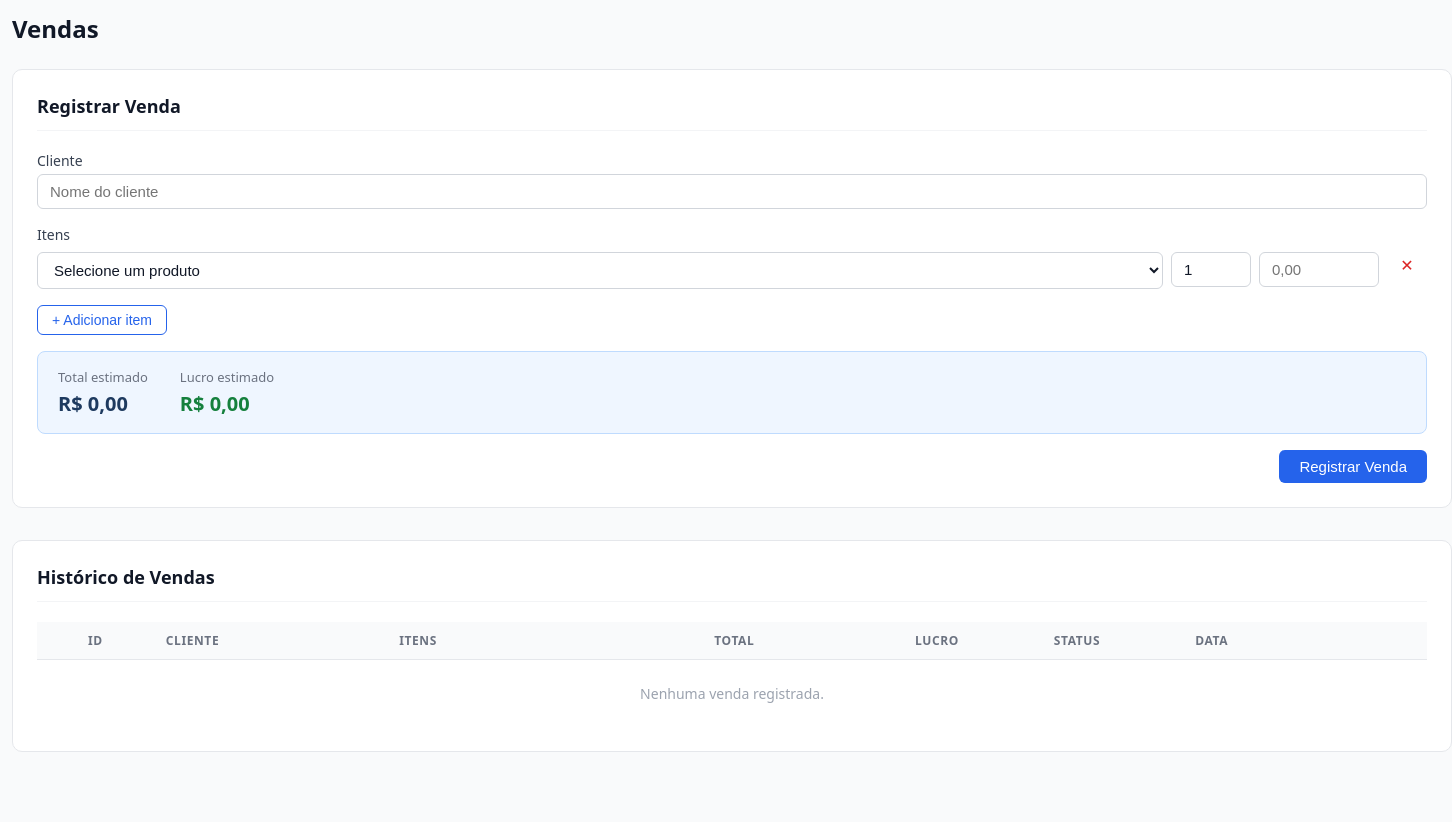
VendasView › exibe mensagem de sucesso após registrar venda
This screenshot has width=1452, height=822.
Type "Cliente Y" into the field with test id "input-cliente".
click(732, 192); type("Cliente Y")  # box [37,174,1427,209]
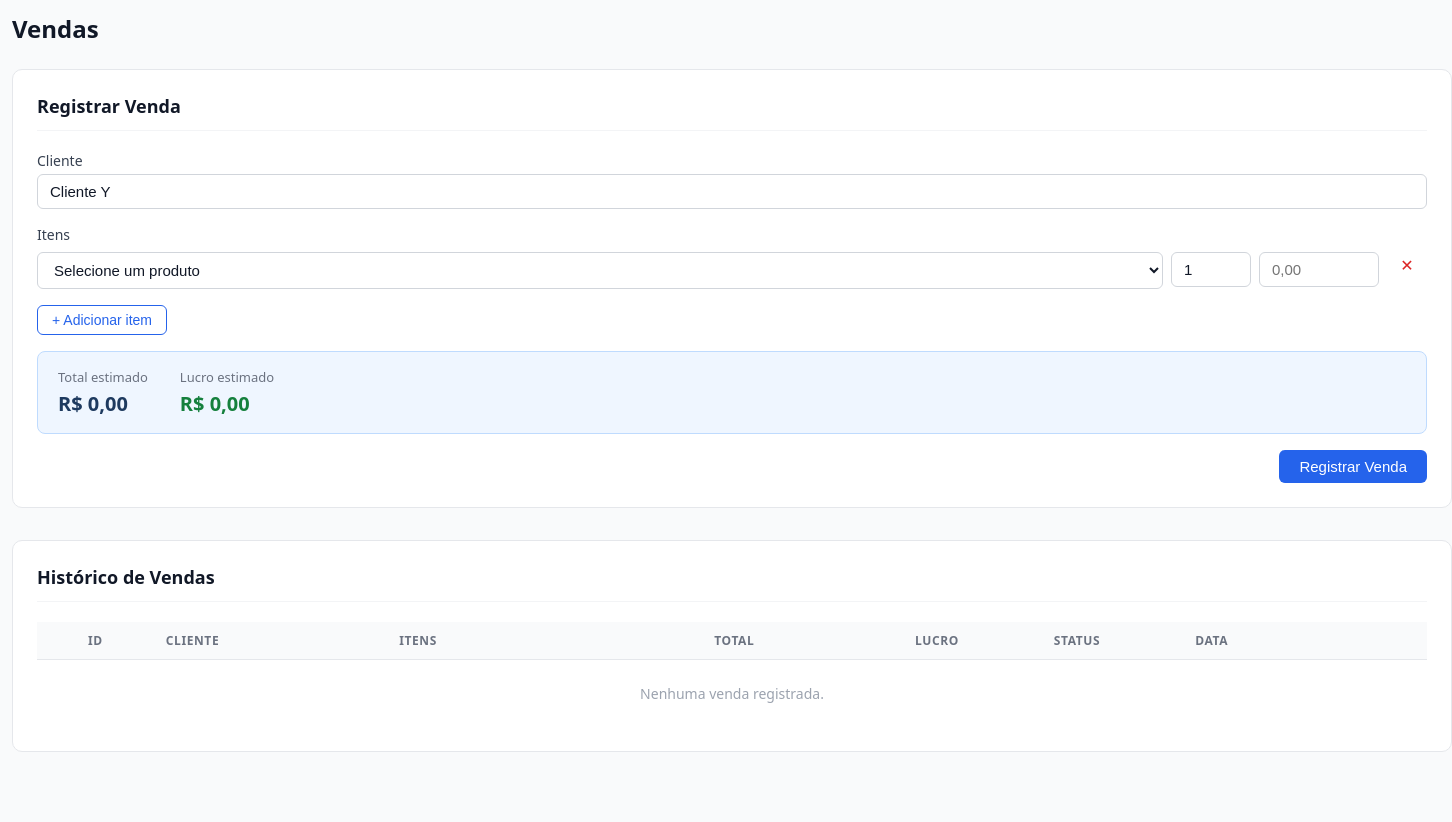
Select "Produto A (estoque: 50)" in the dropdown with test id "select-produto" at (600, 270), box [37,252,1163,289]
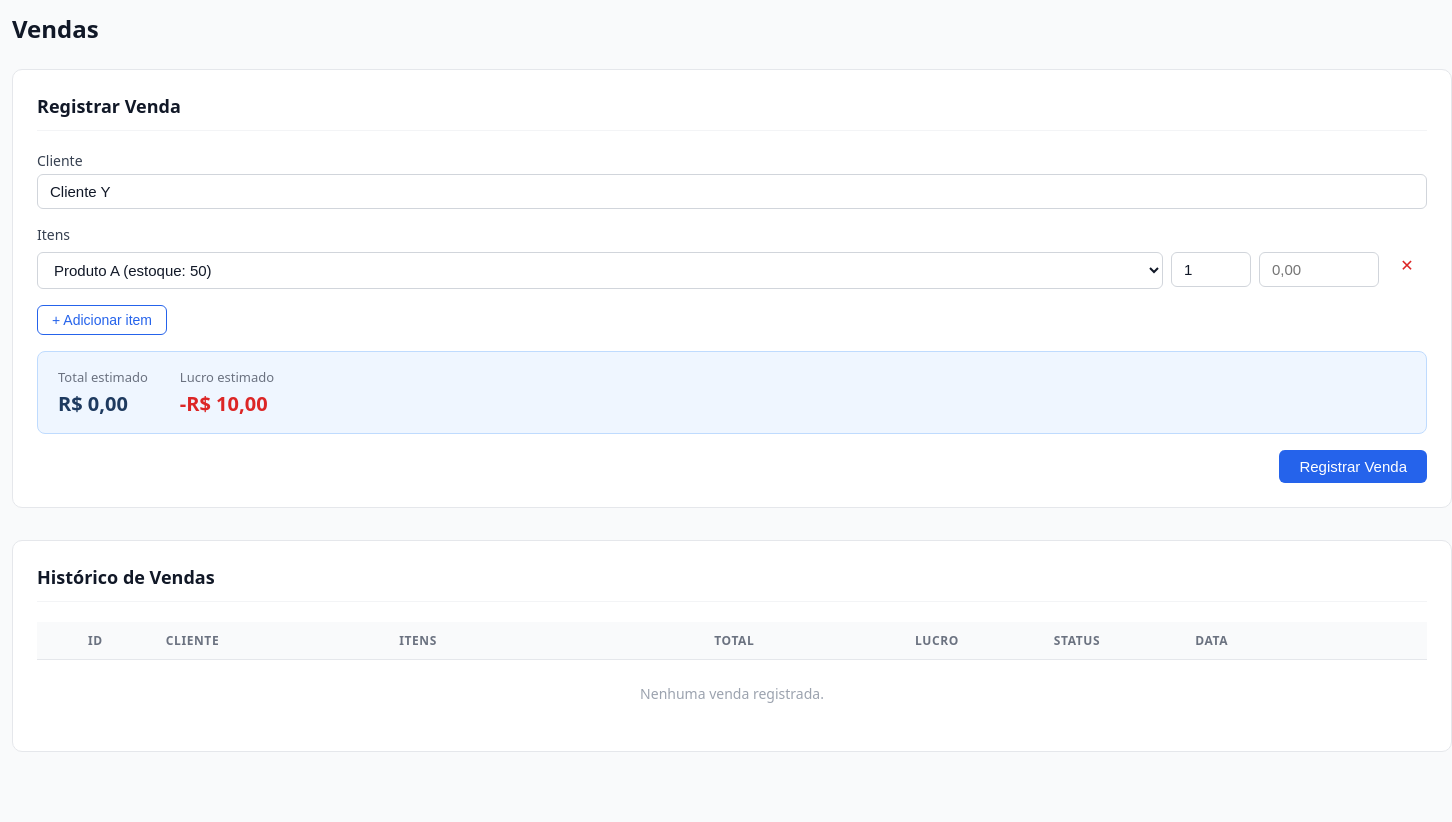
Replace the text in the number field with test id "input-quantidade" with "5" at (1211, 270), box [1171,252,1251,287]
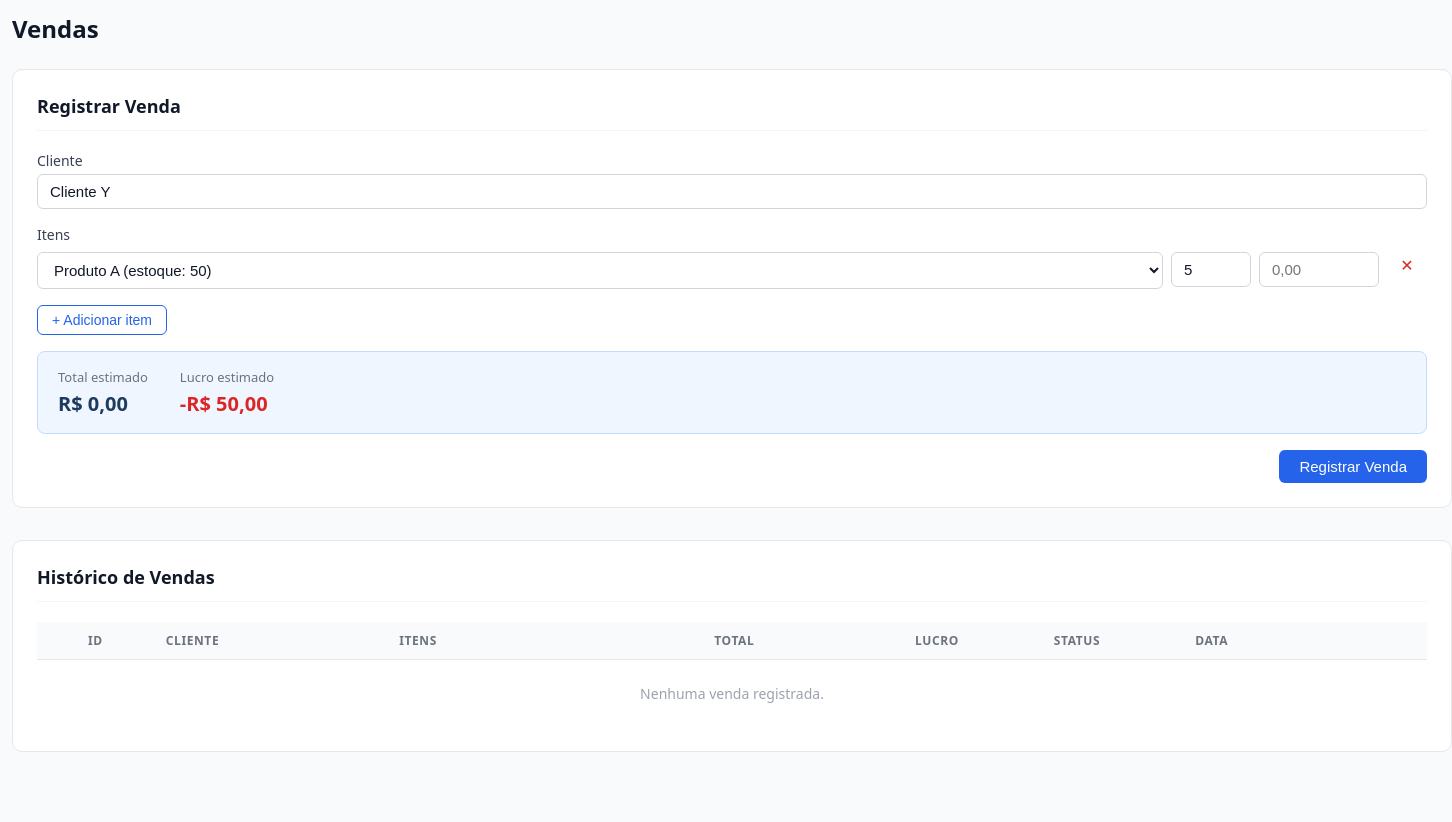
Type "2000" into the field with test id "input-preco-venda".
click(1319, 270); type("2000")  # box [1259,252,1379,287]
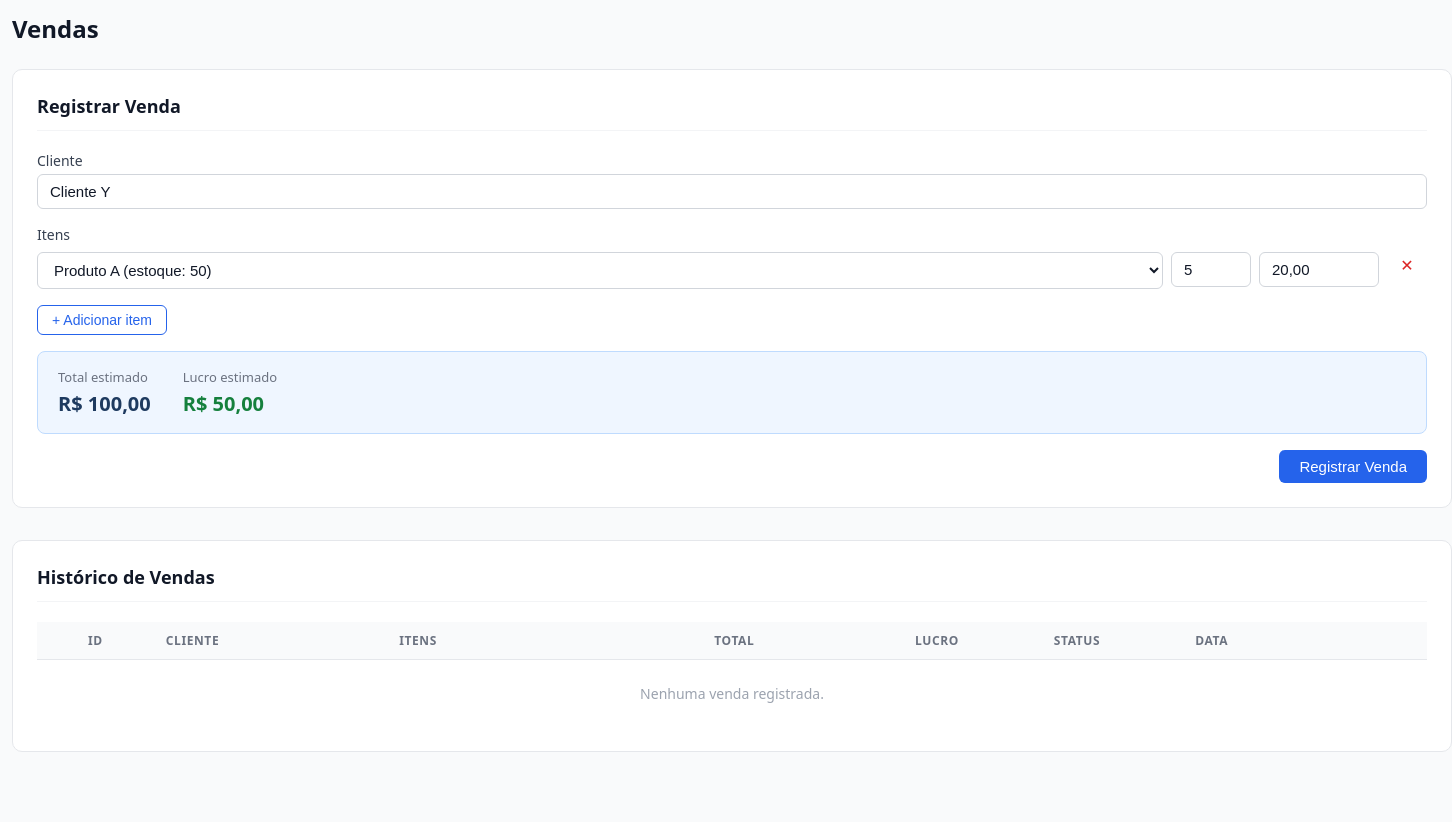
Click the button with test id "btn-registrar".
click(1353, 466)  # box [1279,450,1427,483]
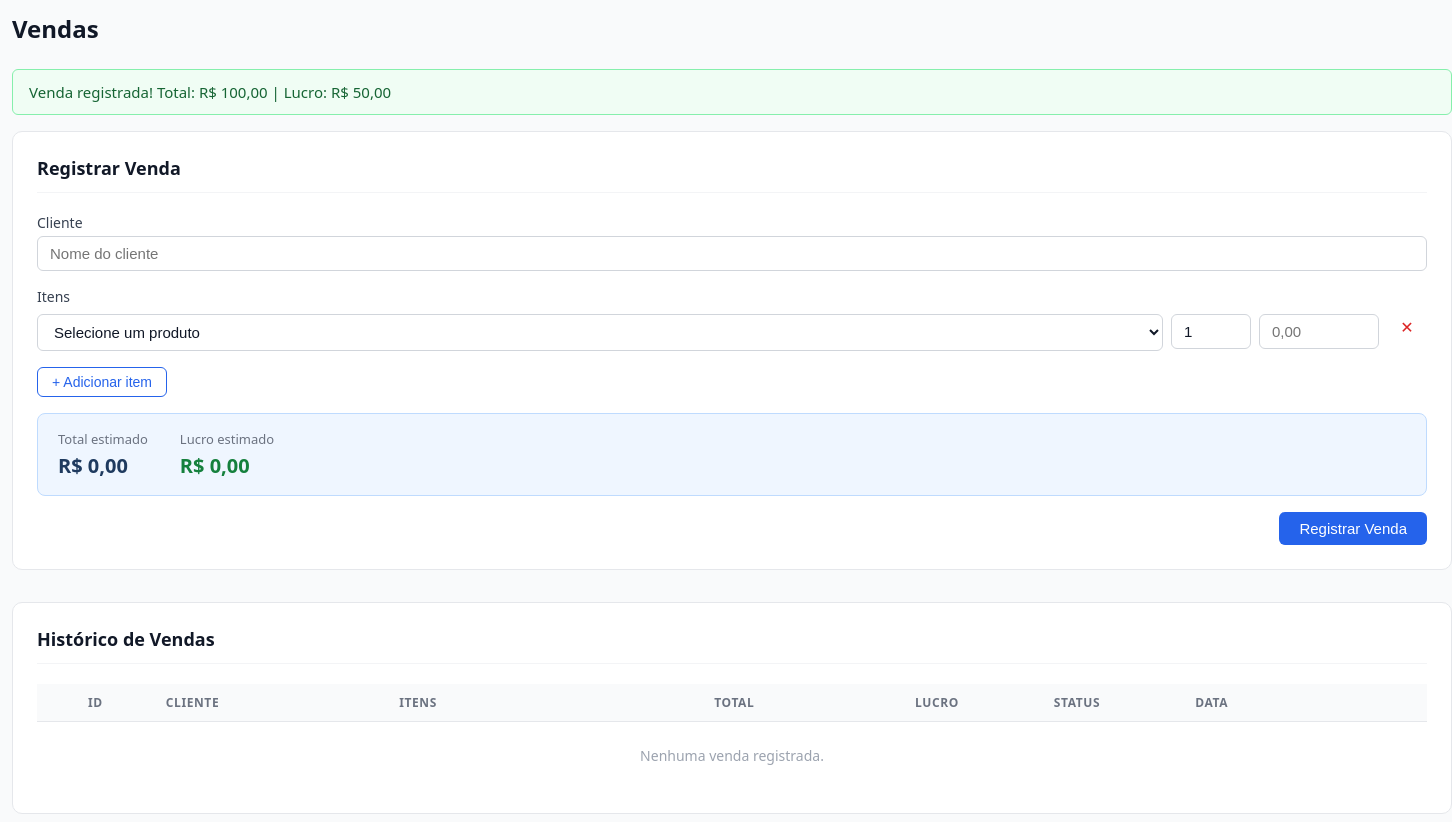
Expected: the text "Venda registrada!" is shown, [29,82,391,102]
